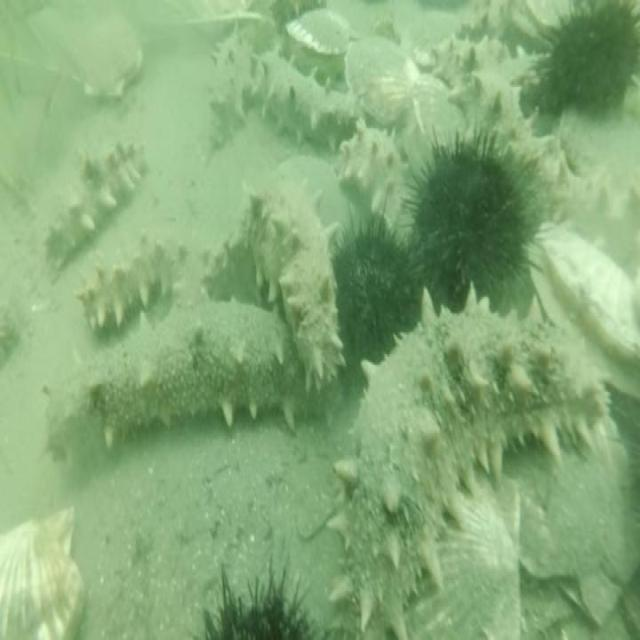echinus: (404, 125, 540, 300), (535, 0, 640, 115), (336, 207, 413, 354)
holothurian: (327, 278, 613, 635), (39, 288, 320, 469), (245, 177, 347, 397), (517, 140, 640, 276), (446, 65, 566, 196), (42, 133, 144, 284), (258, 41, 366, 153), (78, 234, 180, 343), (338, 112, 414, 242), (203, 19, 257, 163), (429, 28, 515, 94), (459, 0, 516, 40)
scallop: (510, 424, 639, 630), (402, 463, 524, 640), (526, 221, 640, 398), (0, 499, 90, 640), (343, 30, 425, 128), (65, 6, 144, 106), (403, 73, 468, 191), (283, 2, 353, 78)
